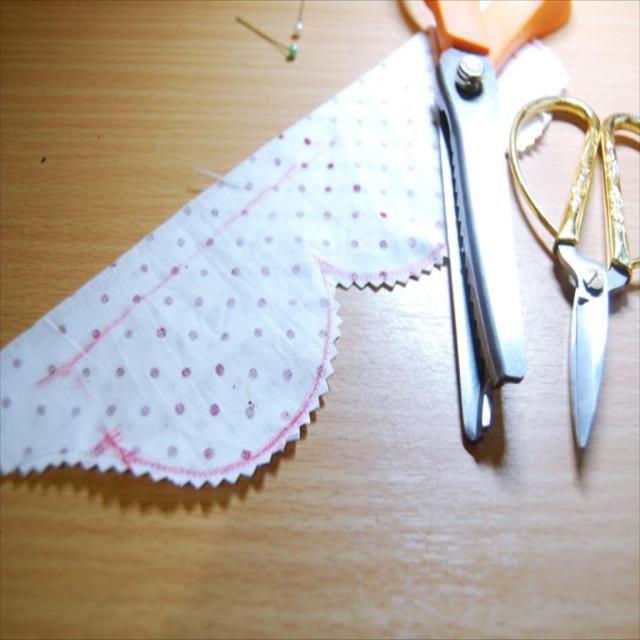scissors: (396, 0, 571, 443), (507, 94, 639, 449)
